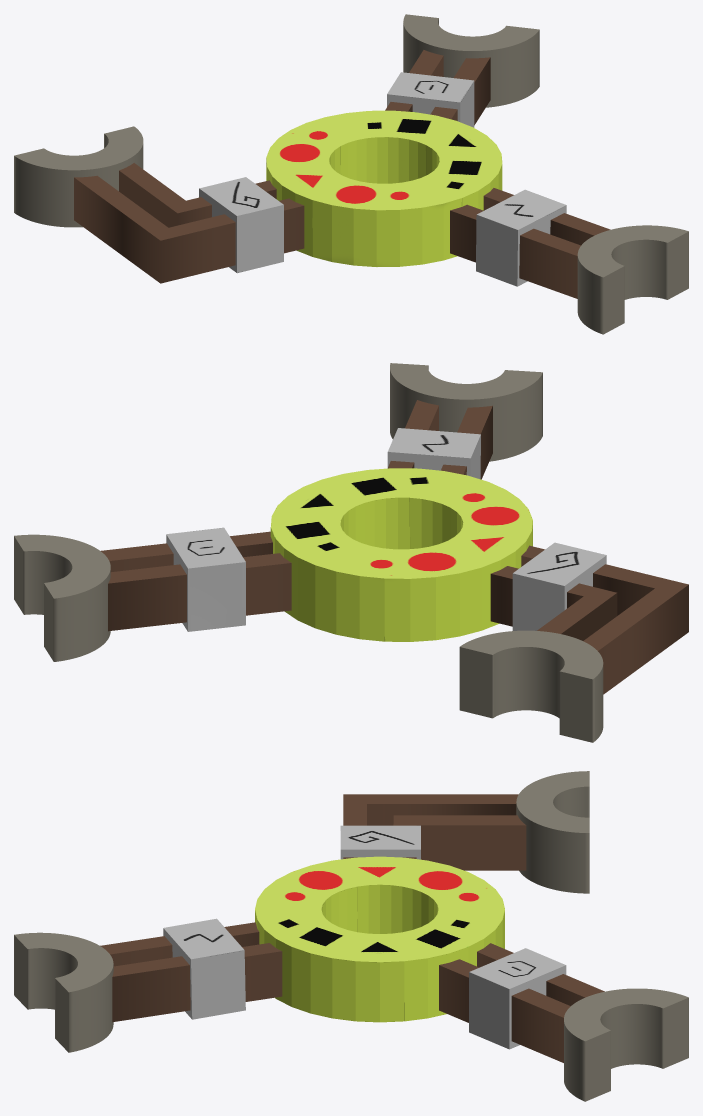
The model's file is Island1Object0Old.fbx.
3 renders of one model, top to bottom at view 1: azimuth 30°, elevation 25°; view 2: azimuth 150°, elevation 25°; view 3: azimuth 270°, elevation 25°, orthographic. The views are drawn at different scales.
Parts seen in each view (by area): view 1: CenterRing, EndPoints, Wood, Symbols; view 2: CenterRing, EndPoints, Wood, Symbols; view 3: CenterRing, EndPoints, Wood, Symbols.
Boxes of the visible parts, left/top/right/bottom form: CenterRing: left=266, top=110, right=502, bottom=266; EndPoints: left=14, top=14, right=688, bottom=334; Wood: left=74, top=50, right=610, bottom=298; Symbols: left=199, top=72, right=566, bottom=286; CenterRing: left=270, top=468, right=532, bottom=641; EndPoints: left=14, top=363, right=603, bottom=742; Wood: left=101, top=400, right=688, bottom=694; Symbols: left=166, top=428, right=606, bottom=631; CenterRing: left=255, top=856, right=504, bottom=1022; EndPoints: left=14, top=771, right=688, bottom=1101; Wood: left=100, top=794, right=604, bottom=1062; Symbols: left=163, top=825, right=566, bottom=1049.
Size of the model in its own units: 220 by 23.87 by 233.
